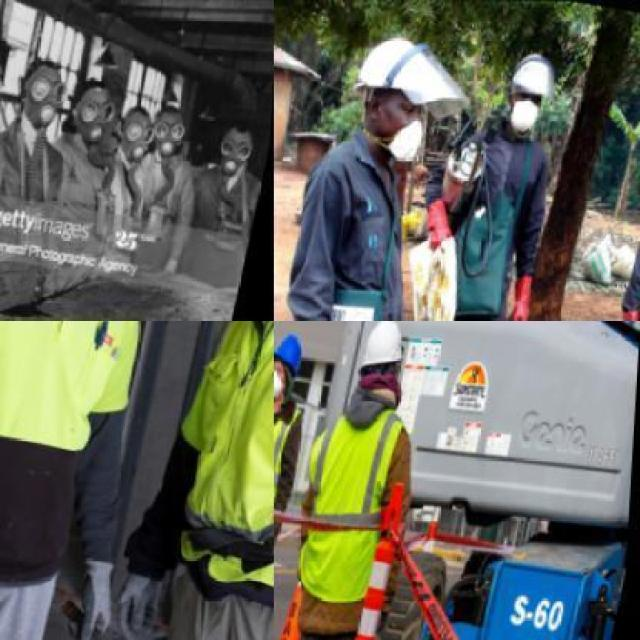Vest: (283, 400, 415, 612), (274, 389, 308, 543)
